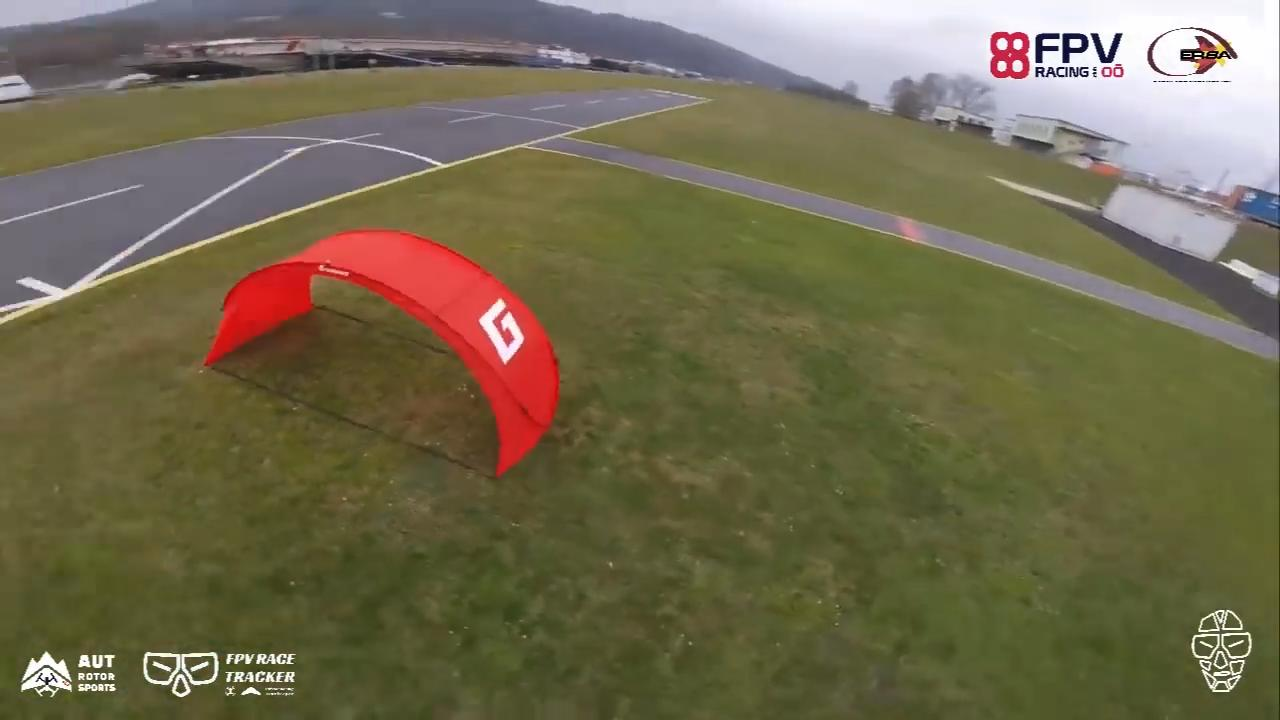gate: (203, 226, 561, 485)
